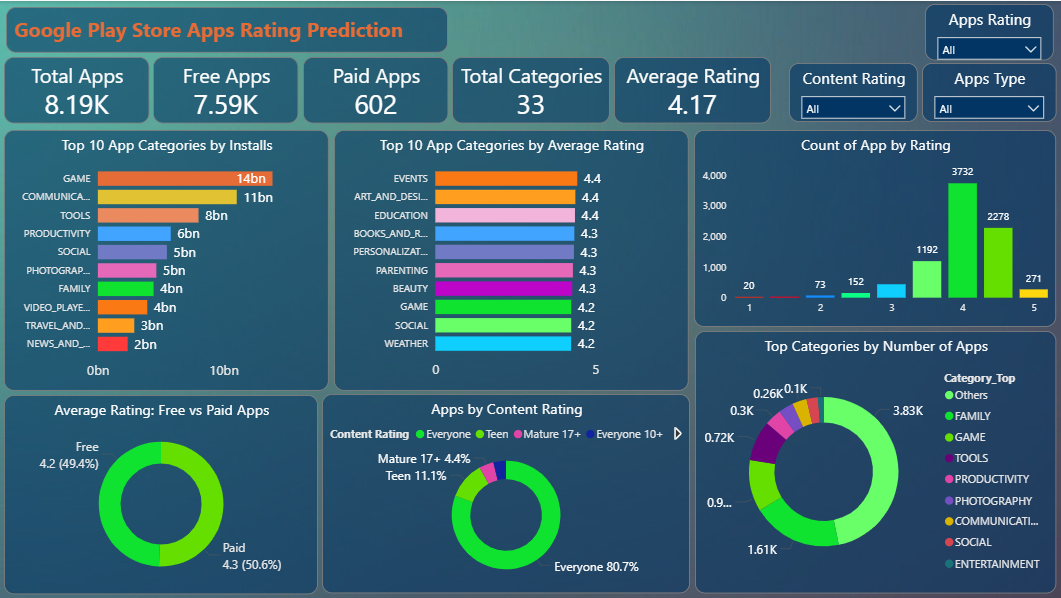

Layout of this report page (visuals, bound fields, positions):
{"tool":"powerbi","page":{"name":"Page 1","canvas":[1280,720],"ordinal":0},"visuals":[{"type":"card","title":"Total Apps","fields":{"Values":["CountNonNull(google_playstore_for_powerbi.App)"]},"box":[6.9,68,174.5,80.3],"z":0},{"type":"textbox","box":[9.7,6.9,531.9,55.4],"z":1000},{"type":"card","title":"Total Categories","fields":{"Values":["Count(google_playstore_for_powerbi.Category)"]},"box":[547,67,189.8,80.3],"z":2000},{"type":"card","title":"Free Apps","fields":{"Values":["google_playstore_for_powerbi.Free Apps"]},"box":[187,67,175,80.3],"z":3000},{"type":"card","title":"Paid Apps","fields":{"Values":["google_playstore_for_powerbi.Paid Apps"]},"box":[367,67,175,80.3],"z":4000},{"type":"card","title":"Average Rating","fields":{"Values":["Avg(google_playstore_for_powerbi.Rating)"]},"box":[742,67,189,80.3],"z":5000},{"type":"clusteredBarChart","title":"Top 10 App Categories by Installs","fields":{"Category":["google_playstore_for_powerbi.Category"],"Y":["Sum(google_playstore_for_powerbi.Installs)"]},"box":[6.9,155.2,391,314.5],"z":6000},{"type":"clusteredBarChart","title":"Top 10 App Categories by Average Rating","fields":{"Category":["google_playstore_for_powerbi.Category"],"Y":["Avg(google_playstore_for_powerbi.Rating)"]},"box":[405,155.2,427,314],"z":7000},{"type":"donutChart","title":"Average Rating: Free vs Paid Apps","fields":{"Category":["google_playstore_for_powerbi.Type"],"Y":["Avg(google_playstore_for_powerbi.Rating)"]},"box":[7,474,378.2,239.7],"z":8000},{"type":"clusteredColumnChart","title":"Count of App by Rating ","fields":{"Category":["google_playstore_for_powerbi.Rating Bins"],"Y":["CountNonNull(google_playstore_for_powerbi.App)"]},"box":[838.1,155.2,436.4,236.9],"z":9000},{"type":"donutChart","title":"Apps by Content Rating","fields":{"Category":["google_playstore_for_powerbi.Content Rating"],"Y":["CountNonNull(google_playstore_for_powerbi.App)"]},"box":[390.6,473.8,443.3,239.7],"z":10000},{"type":"donutChart","title":"Top Categories by Number of Apps","fields":{"Y":["CountNonNull(google_playstore_for_powerbi.App)"],"Category":["google_playstore_for_powerbi.Category_Top"]},"box":[839.5,397.6,435,315.8],"z":11000},{"type":"slicer","title":"Apps Type","fields":{"Values":["google_playstore_for_powerbi.Type"]},"box":[1112.4,74.8,162.1,70.6],"z":12000},{"type":"slicer","title":"Content Rating","fields":{"Values":["google_playstore_for_powerbi.Content Rating"]},"box":[952,74.8,155,70.6],"z":13000},{"type":"slicer","title":"Apps Rating","fields":{"Values":["google_playstore_for_powerbi.Rating"]},"box":[1116,4.2,155,68],"z":14000}]}

Visuals, with their boxes in screenshot pixels (x1, y1, x2, y2), scaled from the page's 1280x720 canvas onto the 1061x598 screenshot:
"Total Apps" card: detection(6, 56, 150, 123)
textbox: detection(8, 6, 449, 52)
"Total Categories" card: detection(453, 56, 611, 122)
"Free Apps" card: detection(155, 56, 300, 122)
"Paid Apps" card: detection(304, 56, 449, 122)
"Average Rating" card: detection(615, 56, 772, 122)
"Top 10 App Categories by Installs" clusteredBarChart: detection(6, 129, 330, 390)
"Top 10 App Categories by Average Rating" clusteredBarChart: detection(336, 129, 690, 390)
"Average Rating: Free vs Paid Apps" donutChart: detection(6, 394, 319, 593)
"Count of App by Rating " clusteredColumnChart: detection(695, 129, 1056, 326)
"Apps by Content Rating" donutChart: detection(324, 394, 691, 593)
"Top Categories by Number of Apps" donutChart: detection(696, 330, 1056, 593)
"Apps Type" slicer: detection(922, 62, 1056, 121)
"Content Rating" slicer: detection(789, 62, 918, 121)
"Apps Rating" slicer: detection(925, 3, 1054, 60)
